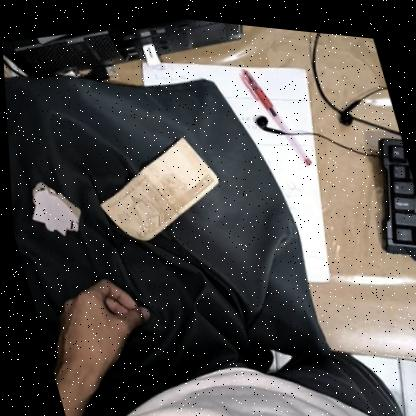five-back-vef: (80, 119, 232, 254)
